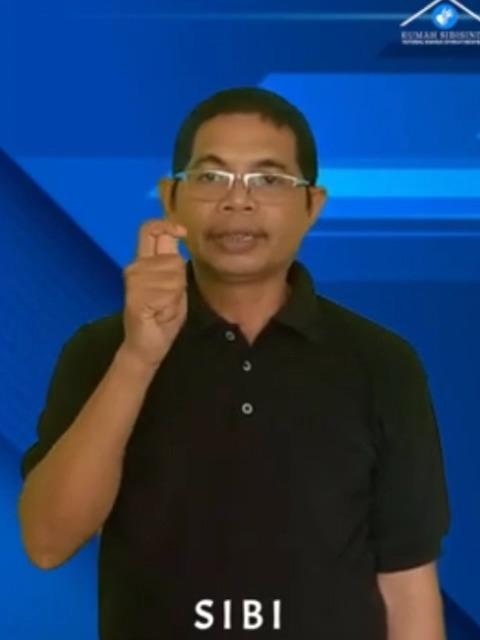T: (122, 218, 194, 364)
